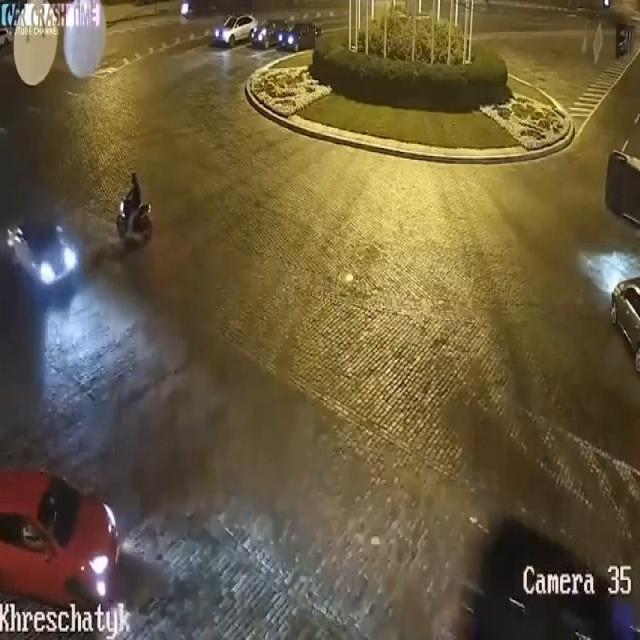Accident: (601, 119, 640, 258)
